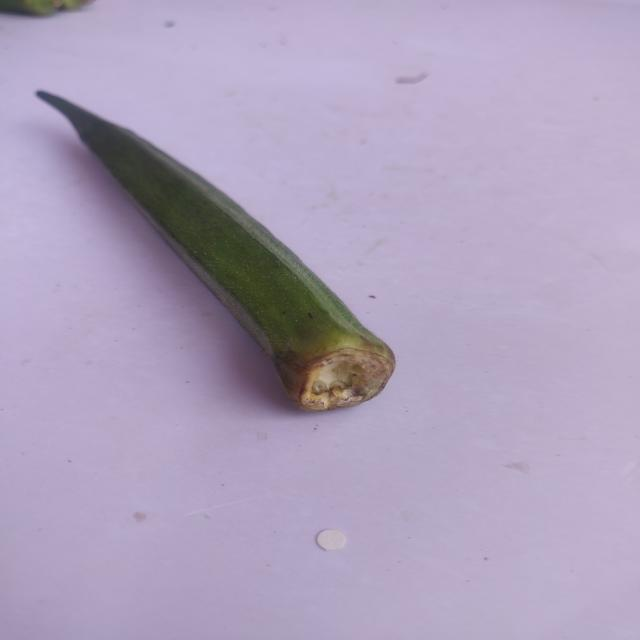Ladies Finger: (23, 84, 407, 423)
